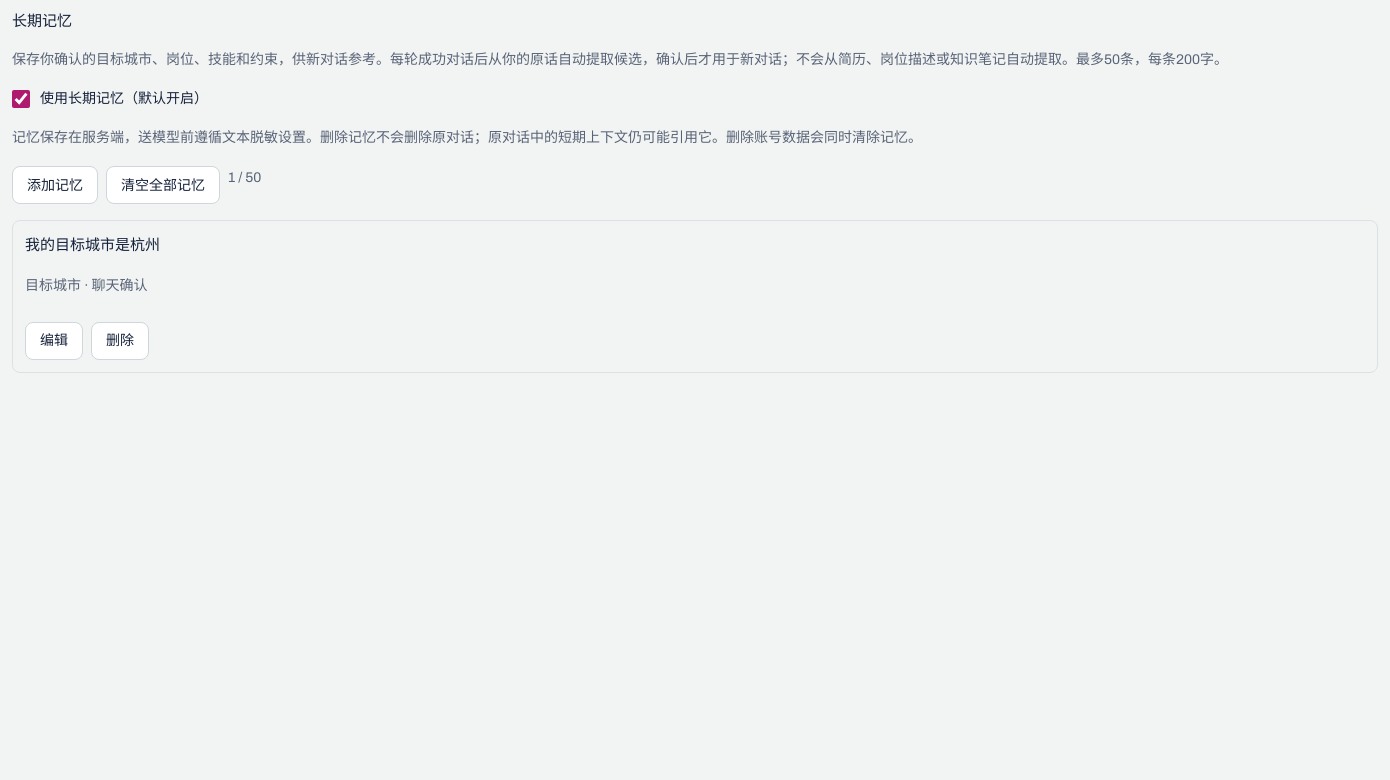
Test: keeps edited draft after save failure and disallows concurrent submits
Click the button "编辑".
click(54, 341)  # box [25,322,83,360]
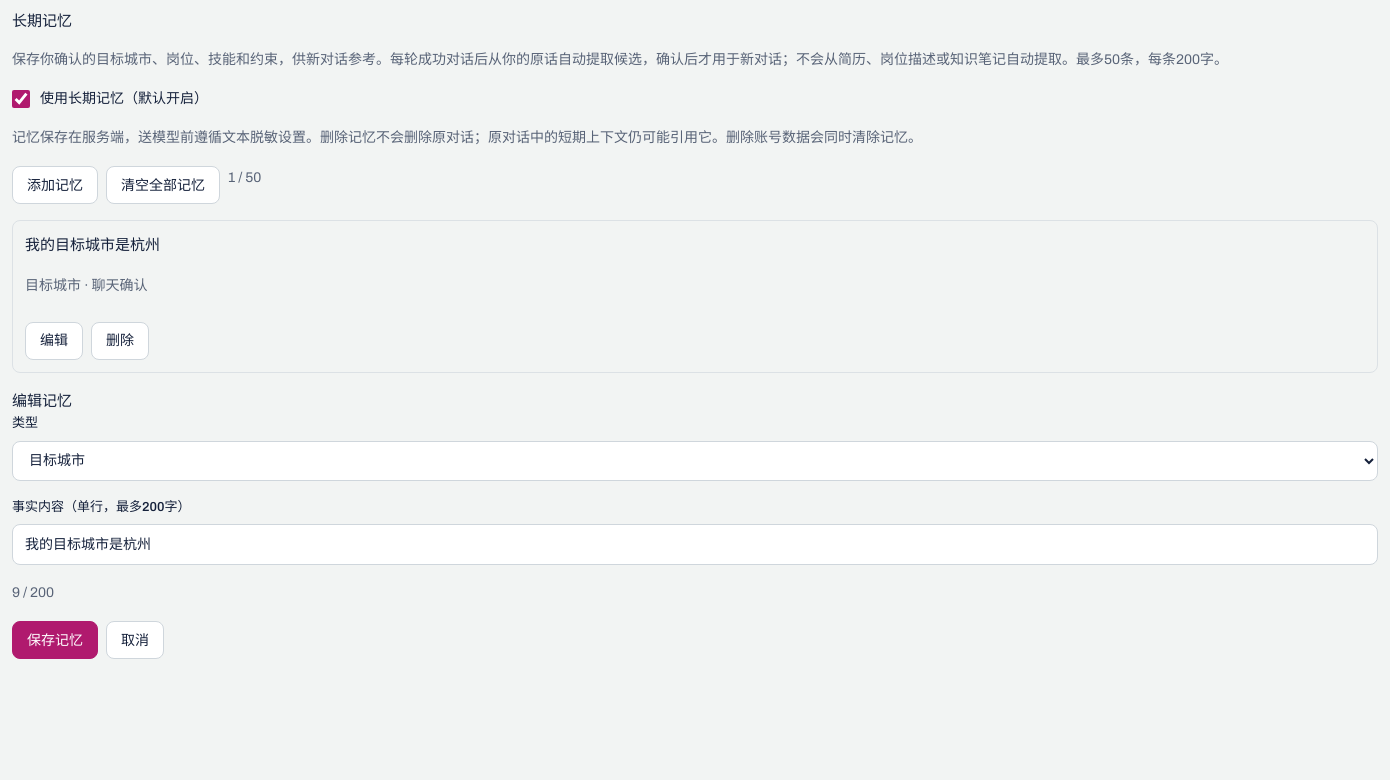
Replace the text in the field labelled "事实内容（单行，最多200字）" with "保留的草稿" at (695, 545), box [12,524,1378,566]
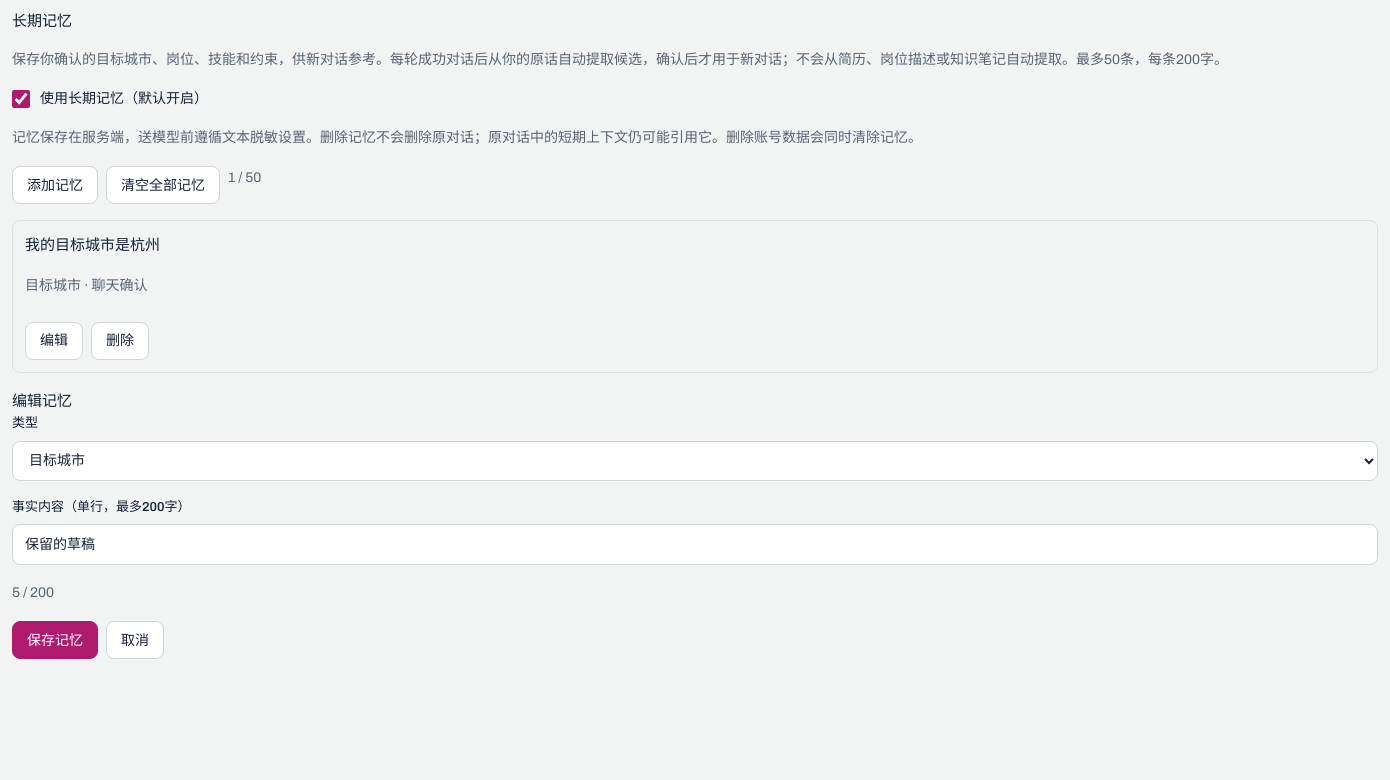
Click the button "保存记忆".
click(55, 640)  # box [12,621,98,659]
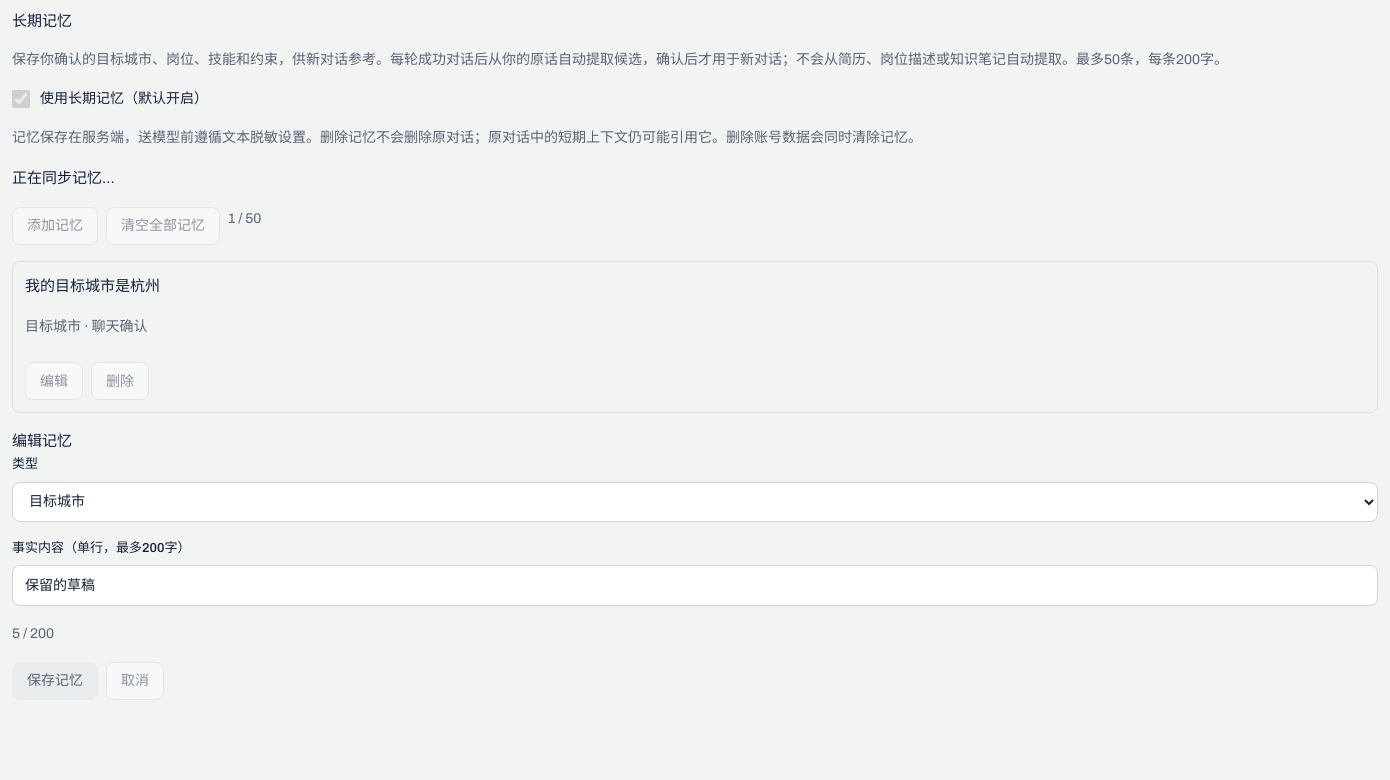
Expected: the element showing "编辑记忆 类型 事实内容（单行，最多200字） 5 / 200 保存记忆 取消" is disabled
Submit the form, box [12,430,1378,700]
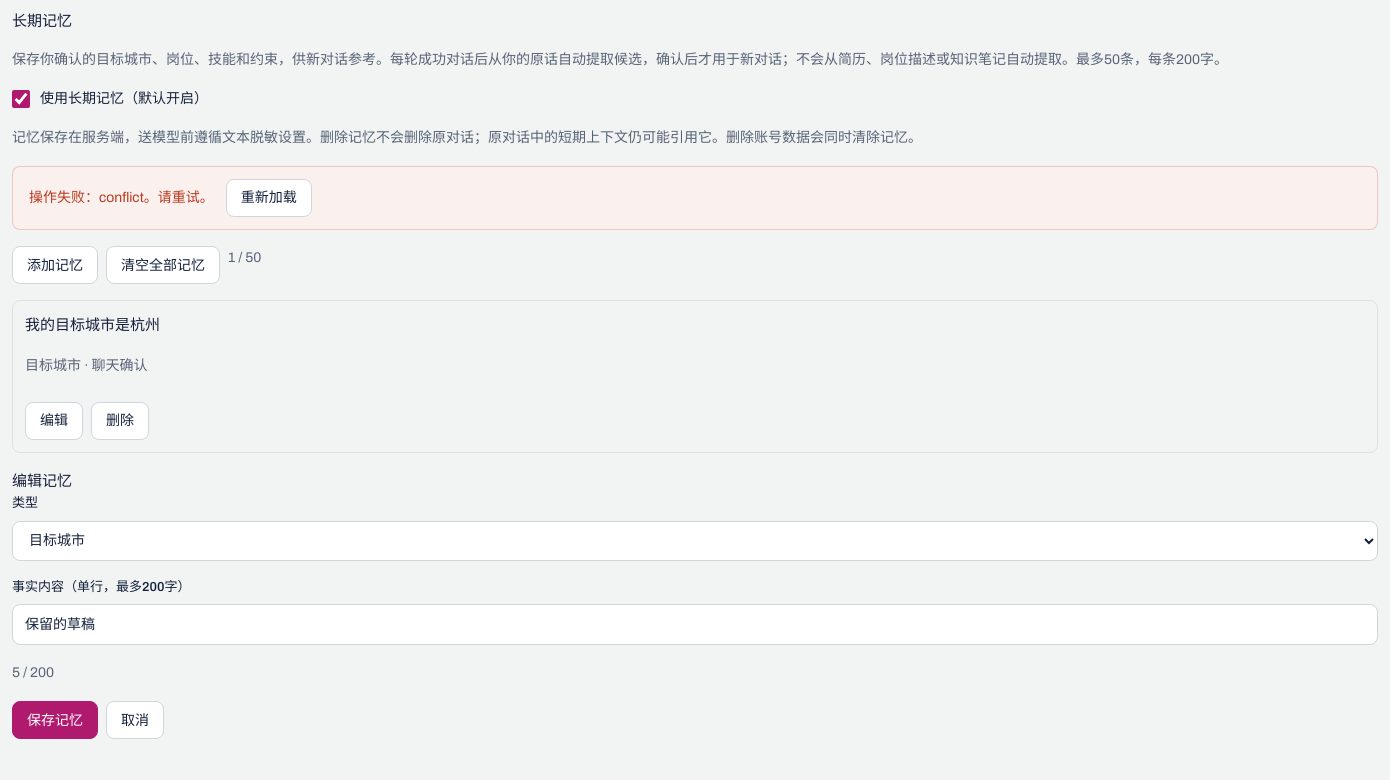
Expected: the element showing "编辑记忆 类型 事实内容（单行，最多200字） 5 / 200 保存记忆 取消" is enabled, [12,469,1378,739]
